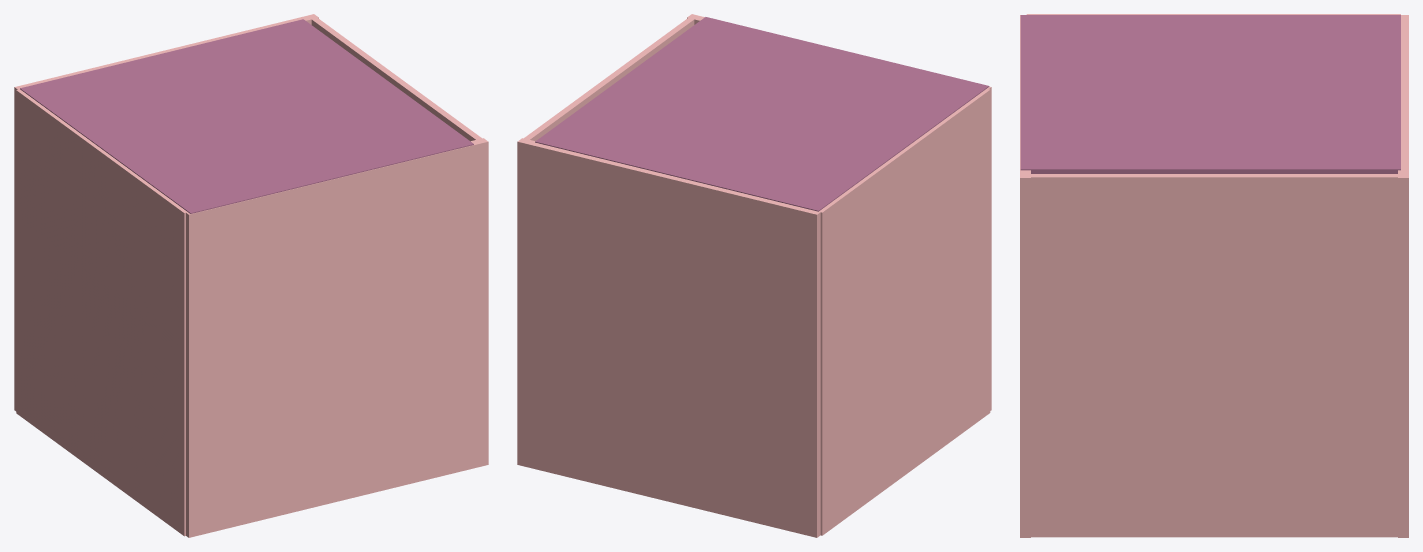
The model's file is tinasroom.obj.
3 views of the same model, side by side, from view 1: azimuth 30°, elevation 25°; view 2: azimuth 150°, elevation 25°; view 3: azimuth 270°, elevation 25° (orthographic). The views are drawn at different scales.
Parts seen in each view (by area): view 1: pasted__pCube1 group1, pasted__pasted__pasted__pCube1 pasted__pasted__group1 pasted__gr, pasted__pCube2 group13, pasted__pasted__pCube1 pasted__group1 group12, pCube1; view 2: pCube1, pasted__pasted__pasted__pCube1 pasted__pasted__group1 pasted__gr, pasted__pCube2 group13, pasted__pasted__pCube1 pasted__group1 group12, pasted__pCube1 group1; view 3: pasted__pasted__pCube1 pasted__group1 group12, pasted__pCube2 group13, pCube1, pasted__pCube1 group1.
Part boxes in pixels (<box>): pasted__pCube1 group1: <box>184,138,488,537</box>; pasted__pasted__pasted__pCube1 pasted__pasted__group1 pasted__gr: <box>16,89,186,536</box>; pasted__pCube2 group13: <box>20,19,473,213</box>; pasted__pasted__pCube1 pasted__group1 group12: <box>311,17,482,141</box>; pCube1: <box>14,14,318,411</box>; pCube1: <box>517,138,821,537</box>; pasted__pasted__pasted__pCube1 pasted__pasted__group1 pasted__gr: <box>819,89,990,535</box>; pasted__pCube2 group13: <box>535,17,989,211</box>; pasted__pasted__pCube1 pasted__group1 group12: <box>522,17,694,141</box>; pasted__pCube1 group1: <box>687,14,991,410</box>; pasted__pasted__pCube1 pasted__group1 group12: <box>1031,174,1397,537</box>; pasted__pCube2 group13: <box>1020,15,1400,173</box>; pCube1: <box>1398,15,1408,537</box>; pasted__pCube1 group1: <box>1020,15,1030,537</box>.
Size of the model in its own units: 11.33 by 11.64 by 11.36.
Materials: 11 (11 with a texture image).
